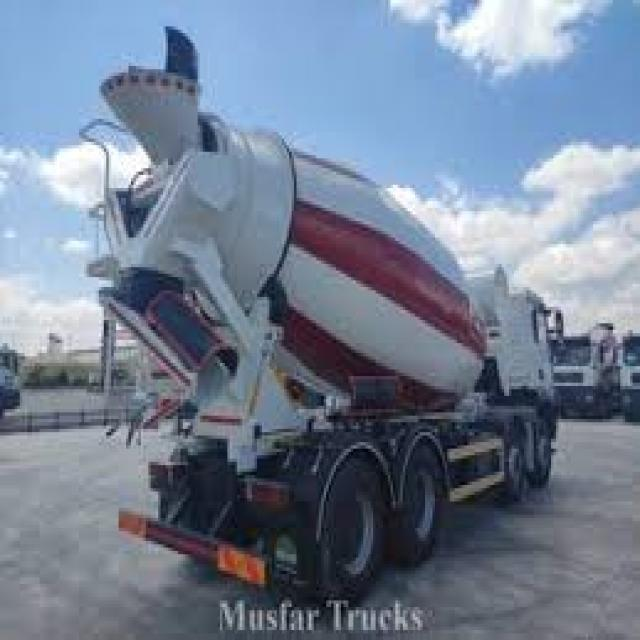Mixer Truck: (73, 22, 566, 606), (552, 318, 620, 417), (619, 316, 640, 424)
